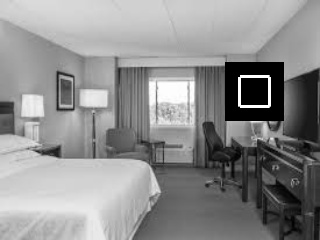square: (225, 62, 284, 121)
